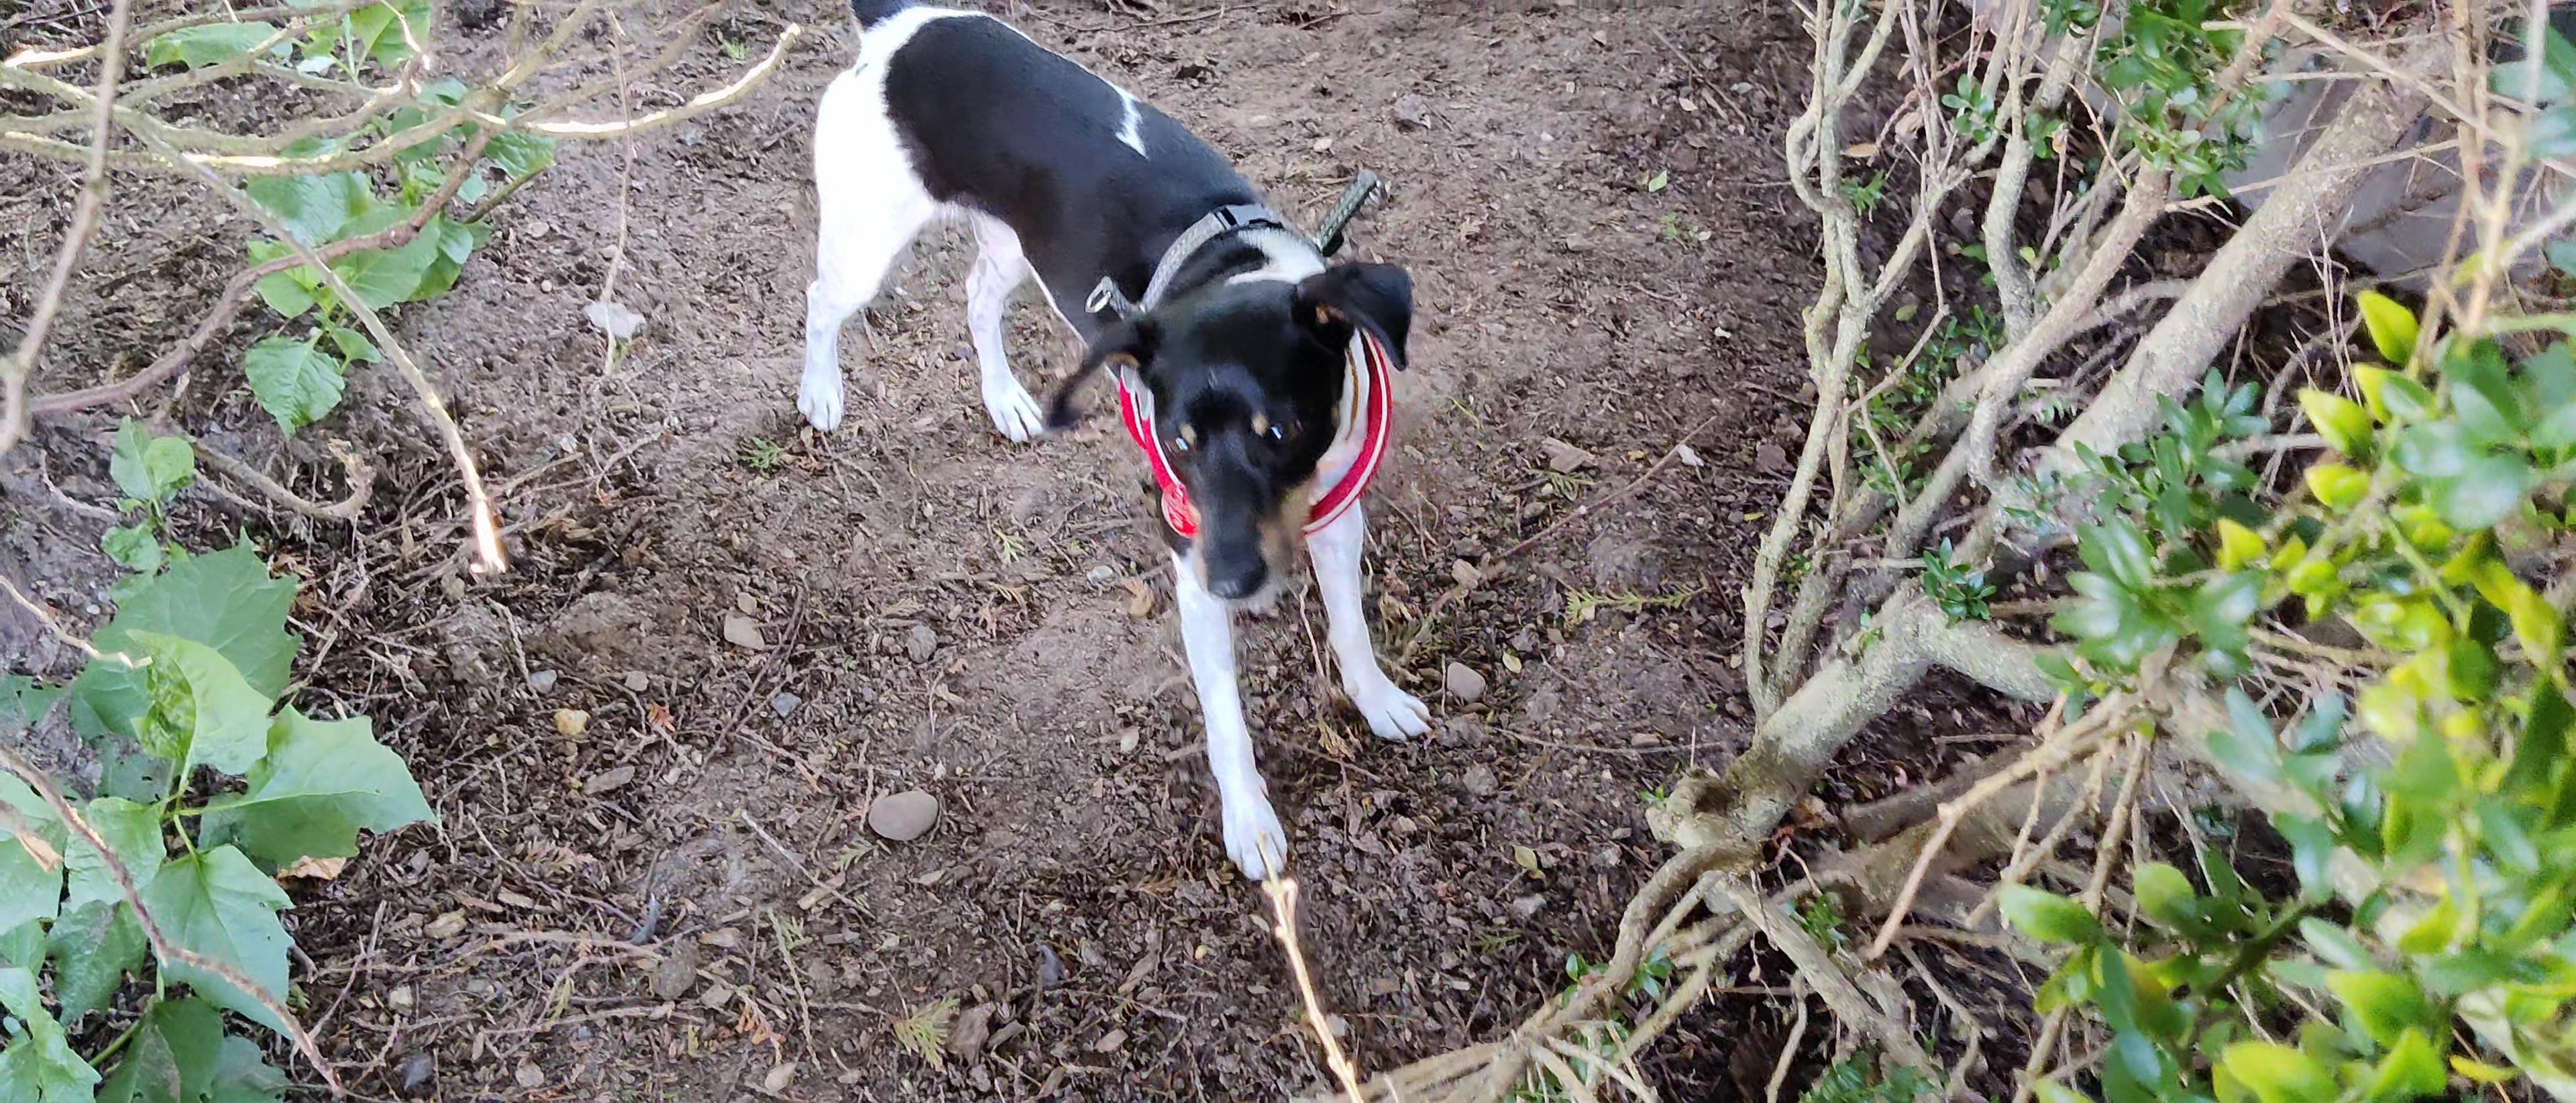Dog: (779, 0, 1454, 901)
